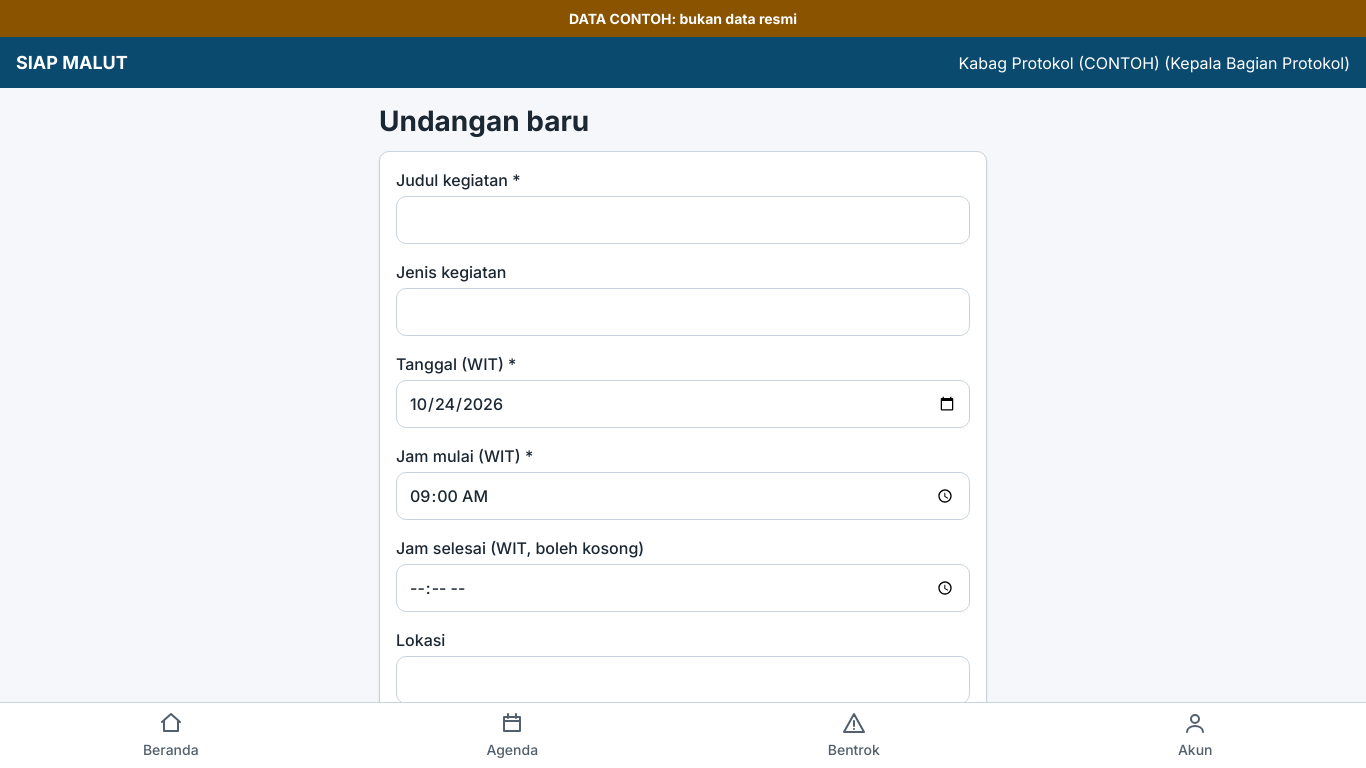
KB-001 dan KB-003: form undangan › KB-001: jam selesai sebelum jam mulai ditolak di perangkat tanpa memanggil API
The width and height of the screenshot is (1366, 768).
Type "Uji CONTOH" into the field labelled "Judul kegiatan *" at (683, 220), box [396,196,970,244]
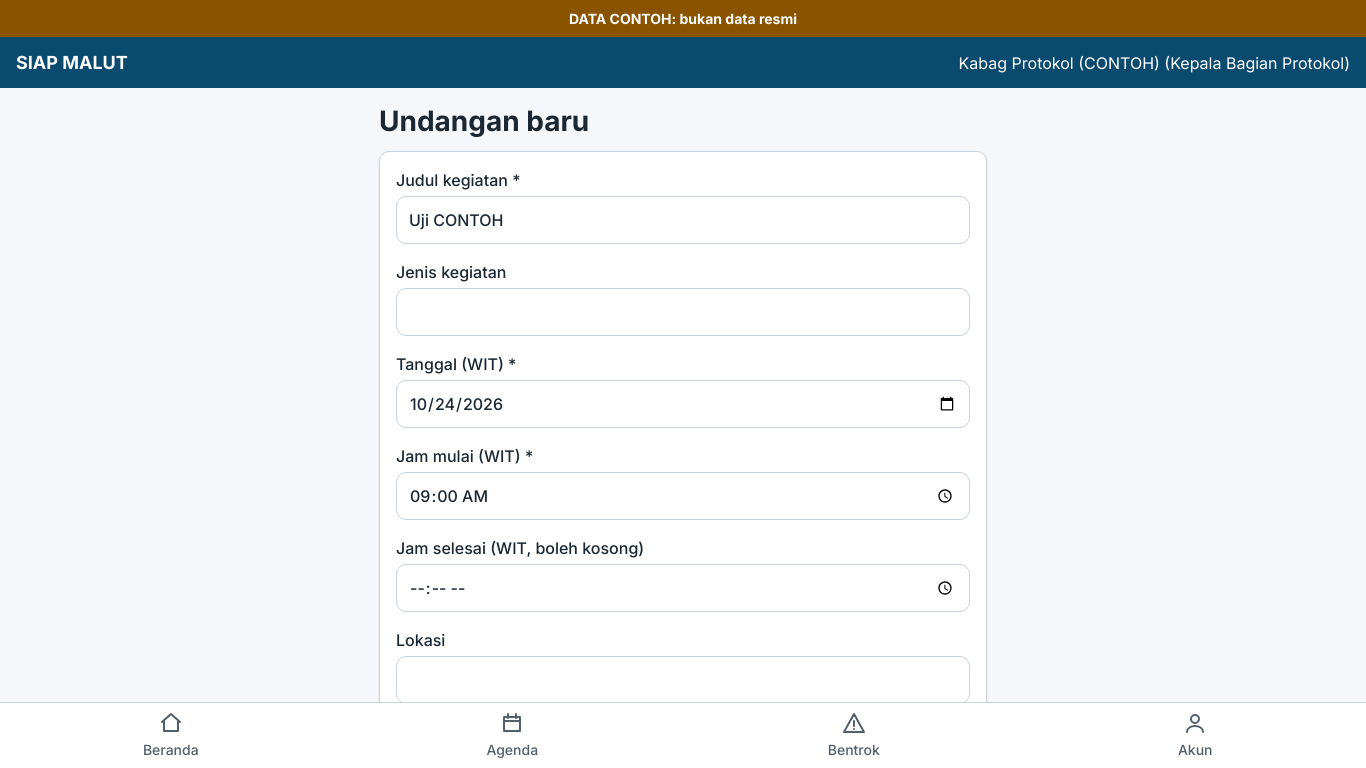
Replace the text in the time field labelled "Jam mulai (WIT) *" with "10:00" at (683, 496), box [396,472,970,520]
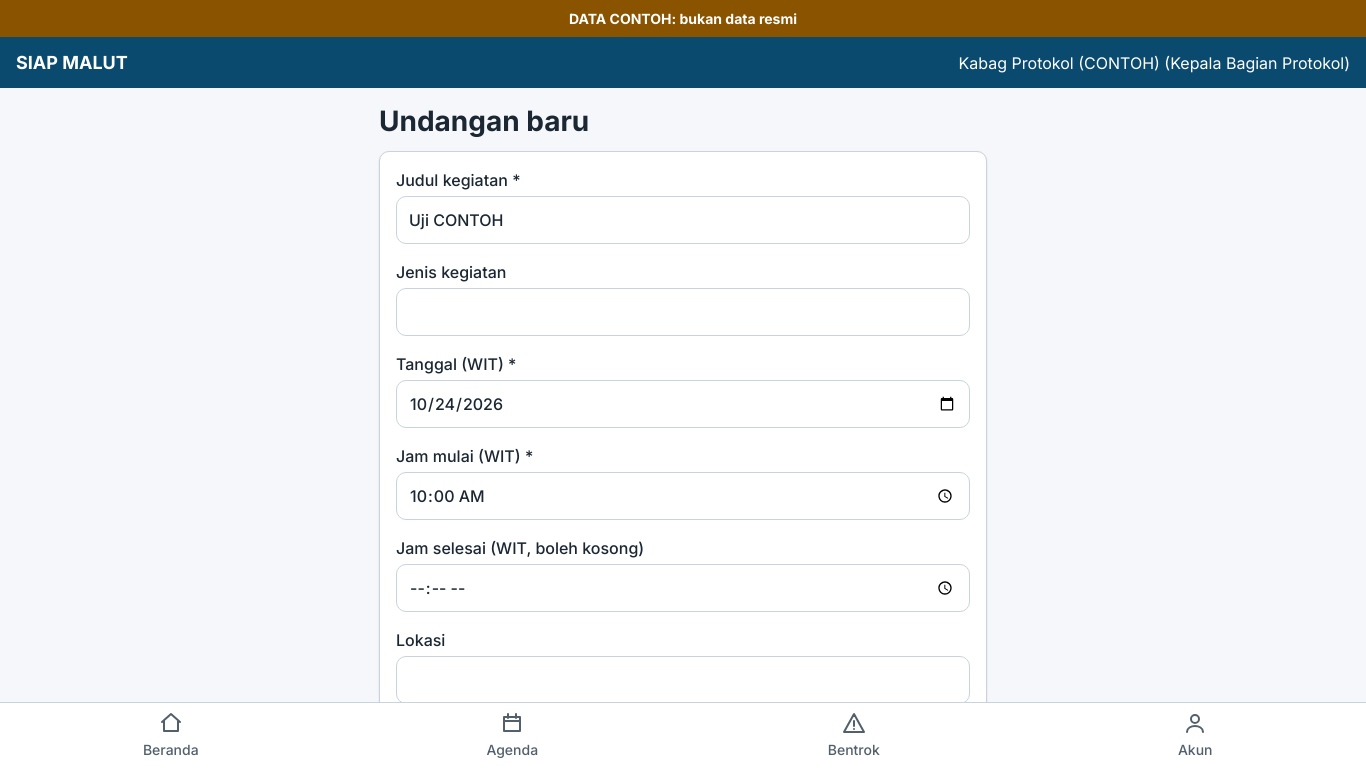
Type "09:00" into the time field labelled "Jam selesai (WIT, boleh kosong)" at (683, 588), box [396,564,970,612]
(page scrolled)
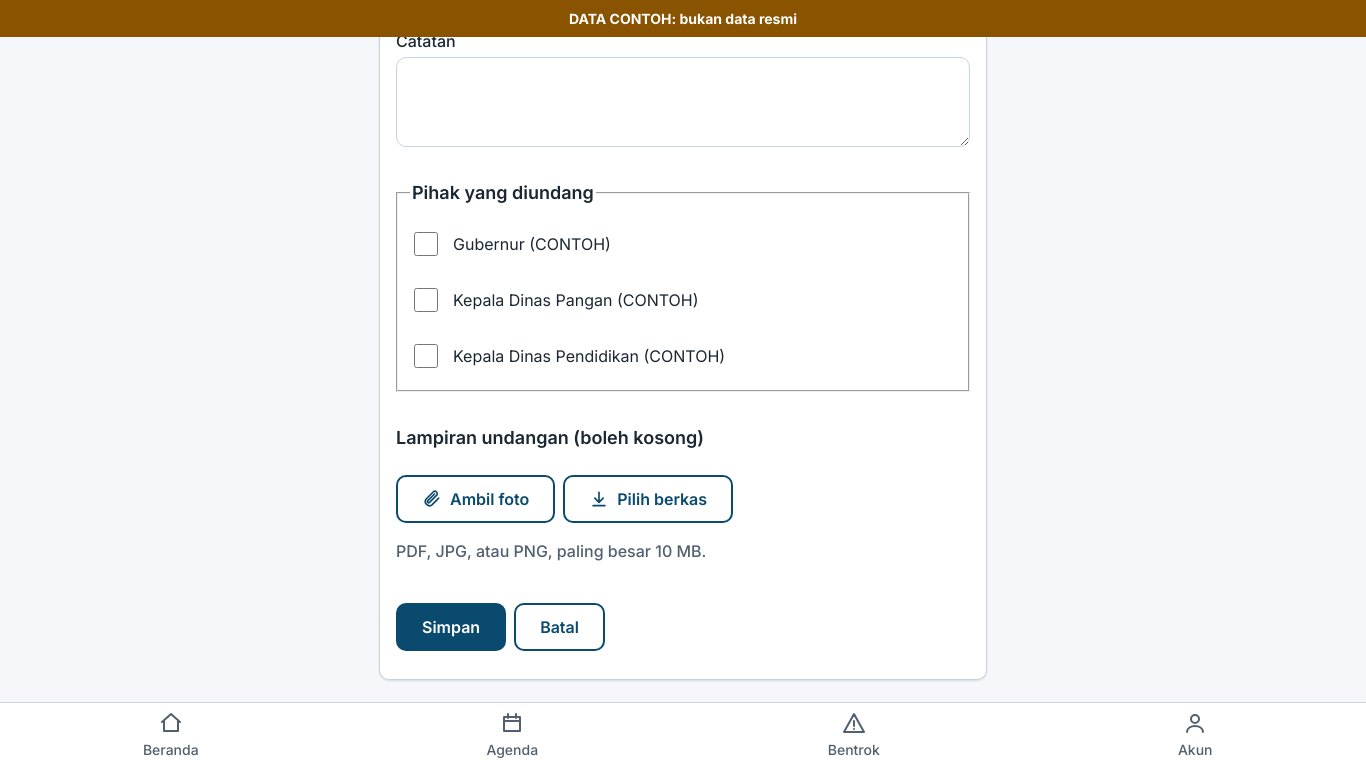
Click the button "Simpan" at (451, 627), box [396,603,506,651]
(page scrolled)
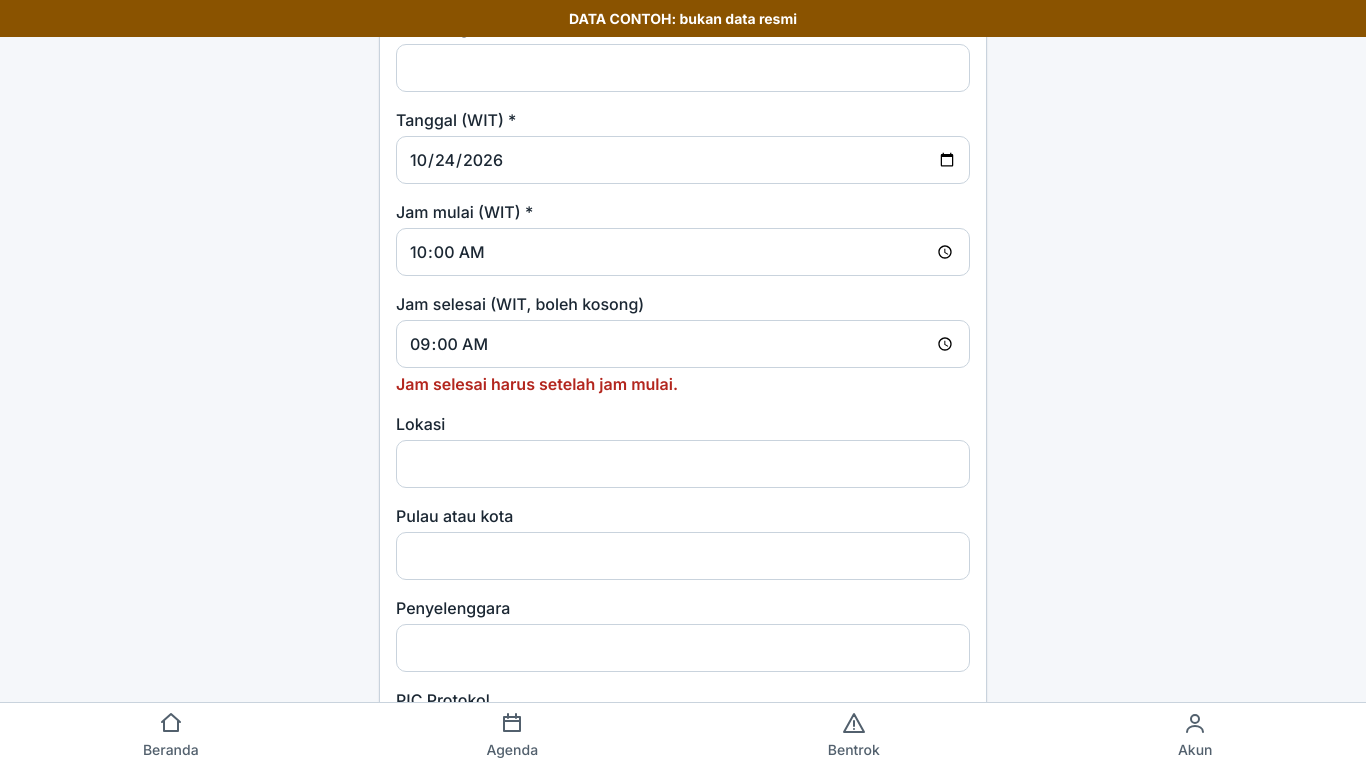
Expected: the message "Jam selesai harus setelah jam mulai." is shown, [396,374,678,394]
